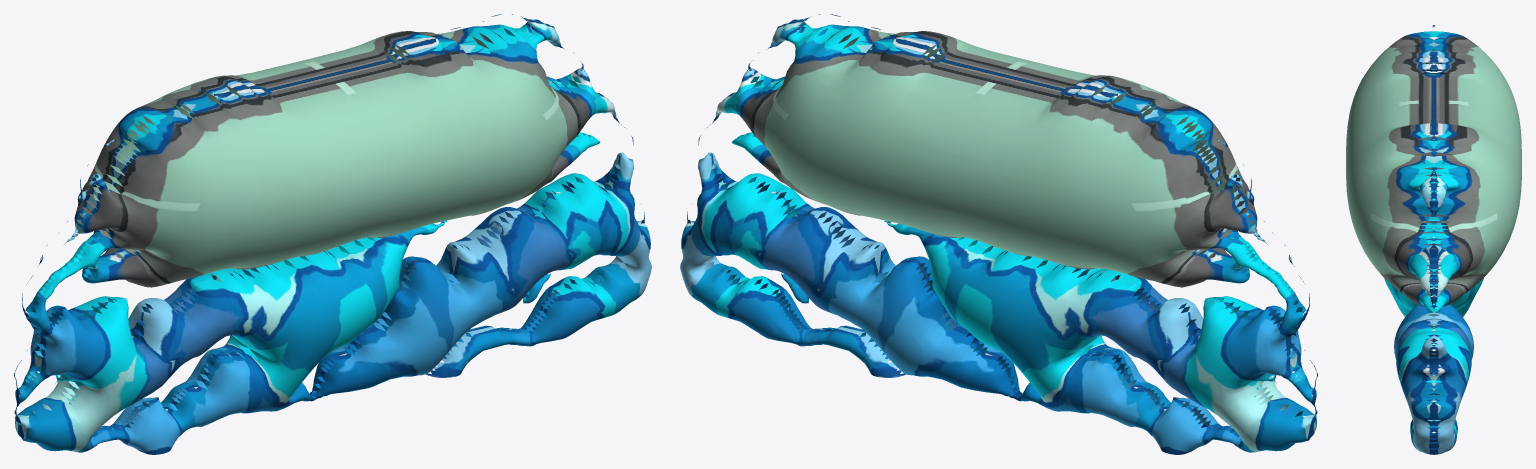
Rendered from upper_deck.glb.
The picture shows the model from 3 angles, left to right: view 1: azimuth 30°, elevation 25°; view 2: azimuth 150°, elevation 25°; view 3: azimuth 270°, elevation 25°; orthographic projection. The views are drawn at different scales.
Parts seen in each view (by area): view 1: upper_deck; view 2: upper_deck; view 3: upper_deck.
Part boxes in pixels (x1,y1,x2,y2): upper_deck: [14, 14, 651, 454]; upper_deck: [680, 14, 1317, 454]; upper_deck: [1346, 25, 1521, 454].
Bounding box in the file's own units: 0.9892 × 0.5096 × 0.2965.
Materials: 1 (1 with a texture image).
